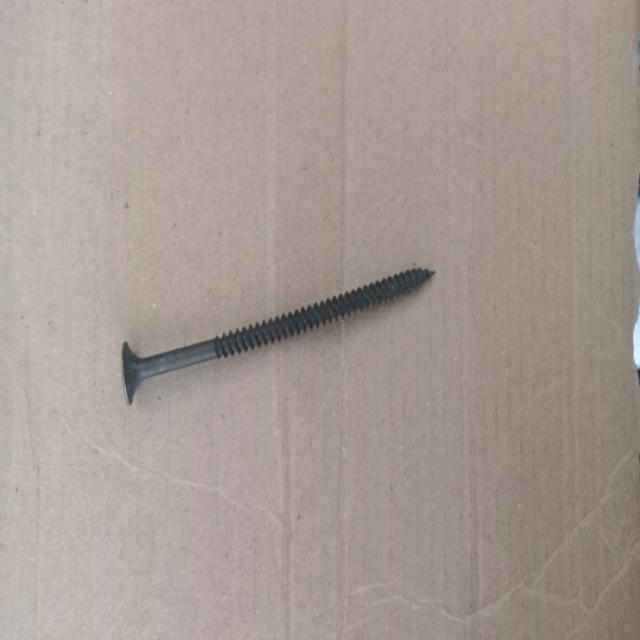screw: (121, 268, 435, 408)
